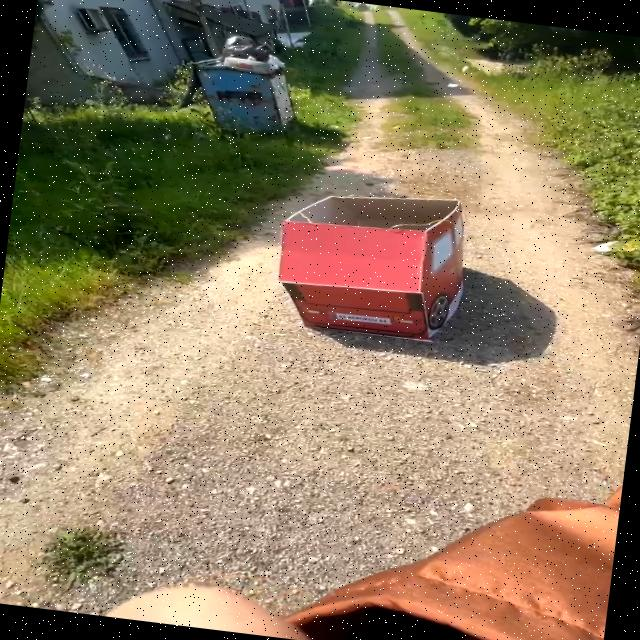red_car: (252, 167, 509, 368)
